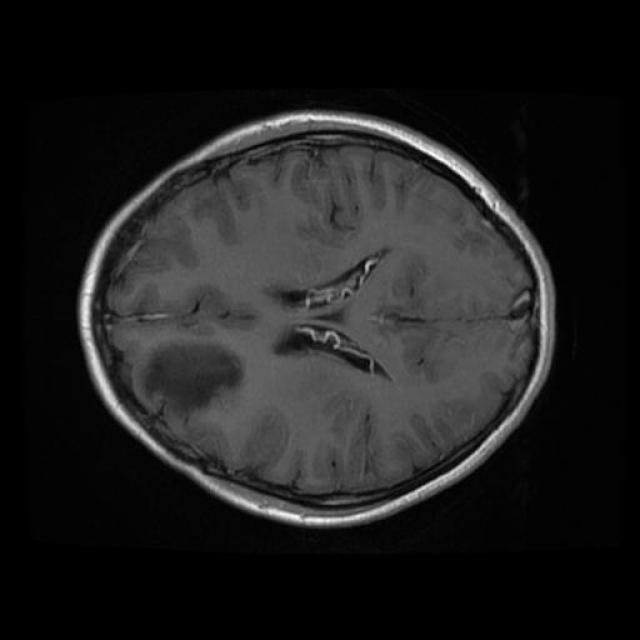Glioma: (141, 343, 241, 410)
